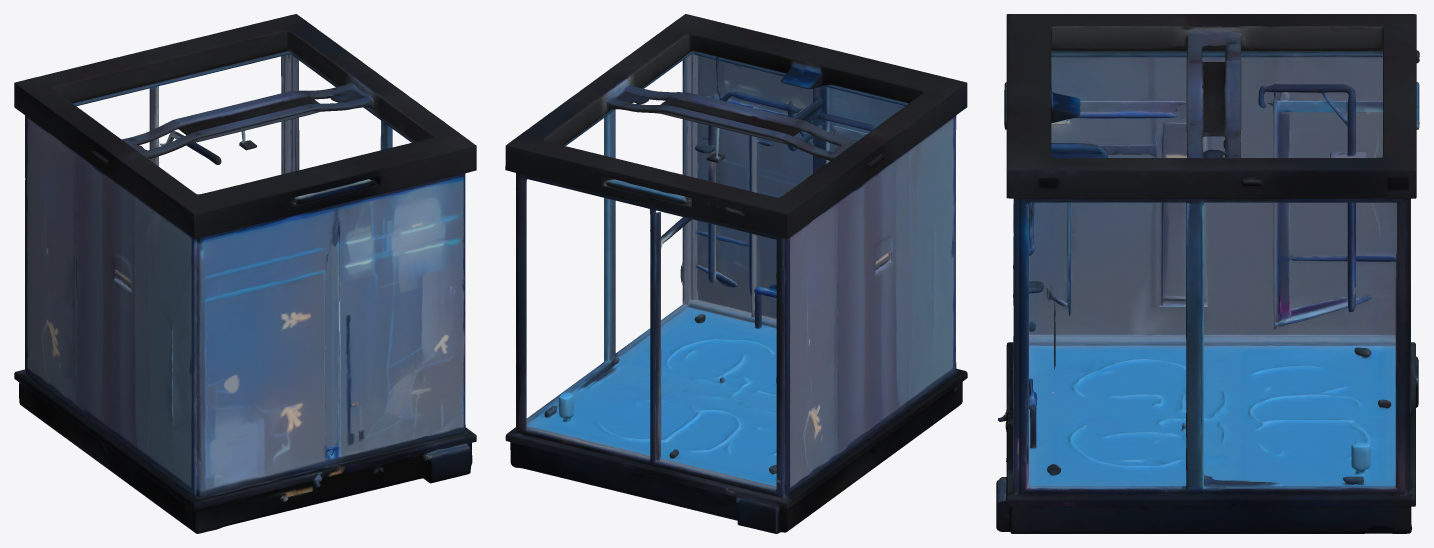
File: building-mirror-maze.glb
3 views of the same model, side by side, from view 1: azimuth 30°, elevation 25°; view 2: azimuth 150°, elevation 25°; view 3: azimuth 270°, elevation 25° (orthographic). The views are drawn at different scales.
Parts seen in each view (by area): view 1: tripo_node_640f2b21-ca27-40b7-ad73-eab592449de7; view 2: tripo_node_640f2b21-ca27-40b7-ad73-eab592449de7; view 3: tripo_node_640f2b21-ca27-40b7-ad73-eab592449de7.
Boxes of the visible parts, x1,y1,x2,y2 form: tripo_node_640f2b21-ca27-40b7-ad73-eab592449de7: (14,14,476,533); tripo_node_640f2b21-ca27-40b7-ad73-eab592449de7: (505,14,967,533); tripo_node_640f2b21-ca27-40b7-ad73-eab592449de7: (996,14,1419,533).
Bounding box in the file's own units: 4.7 × 5 × 5.22.
1 material, 1 textured.
